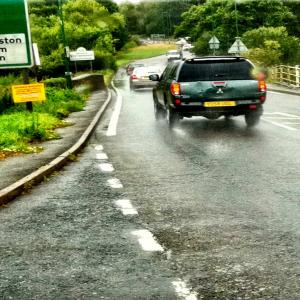Vehicle-registration-plate: (205, 101, 237, 108)
